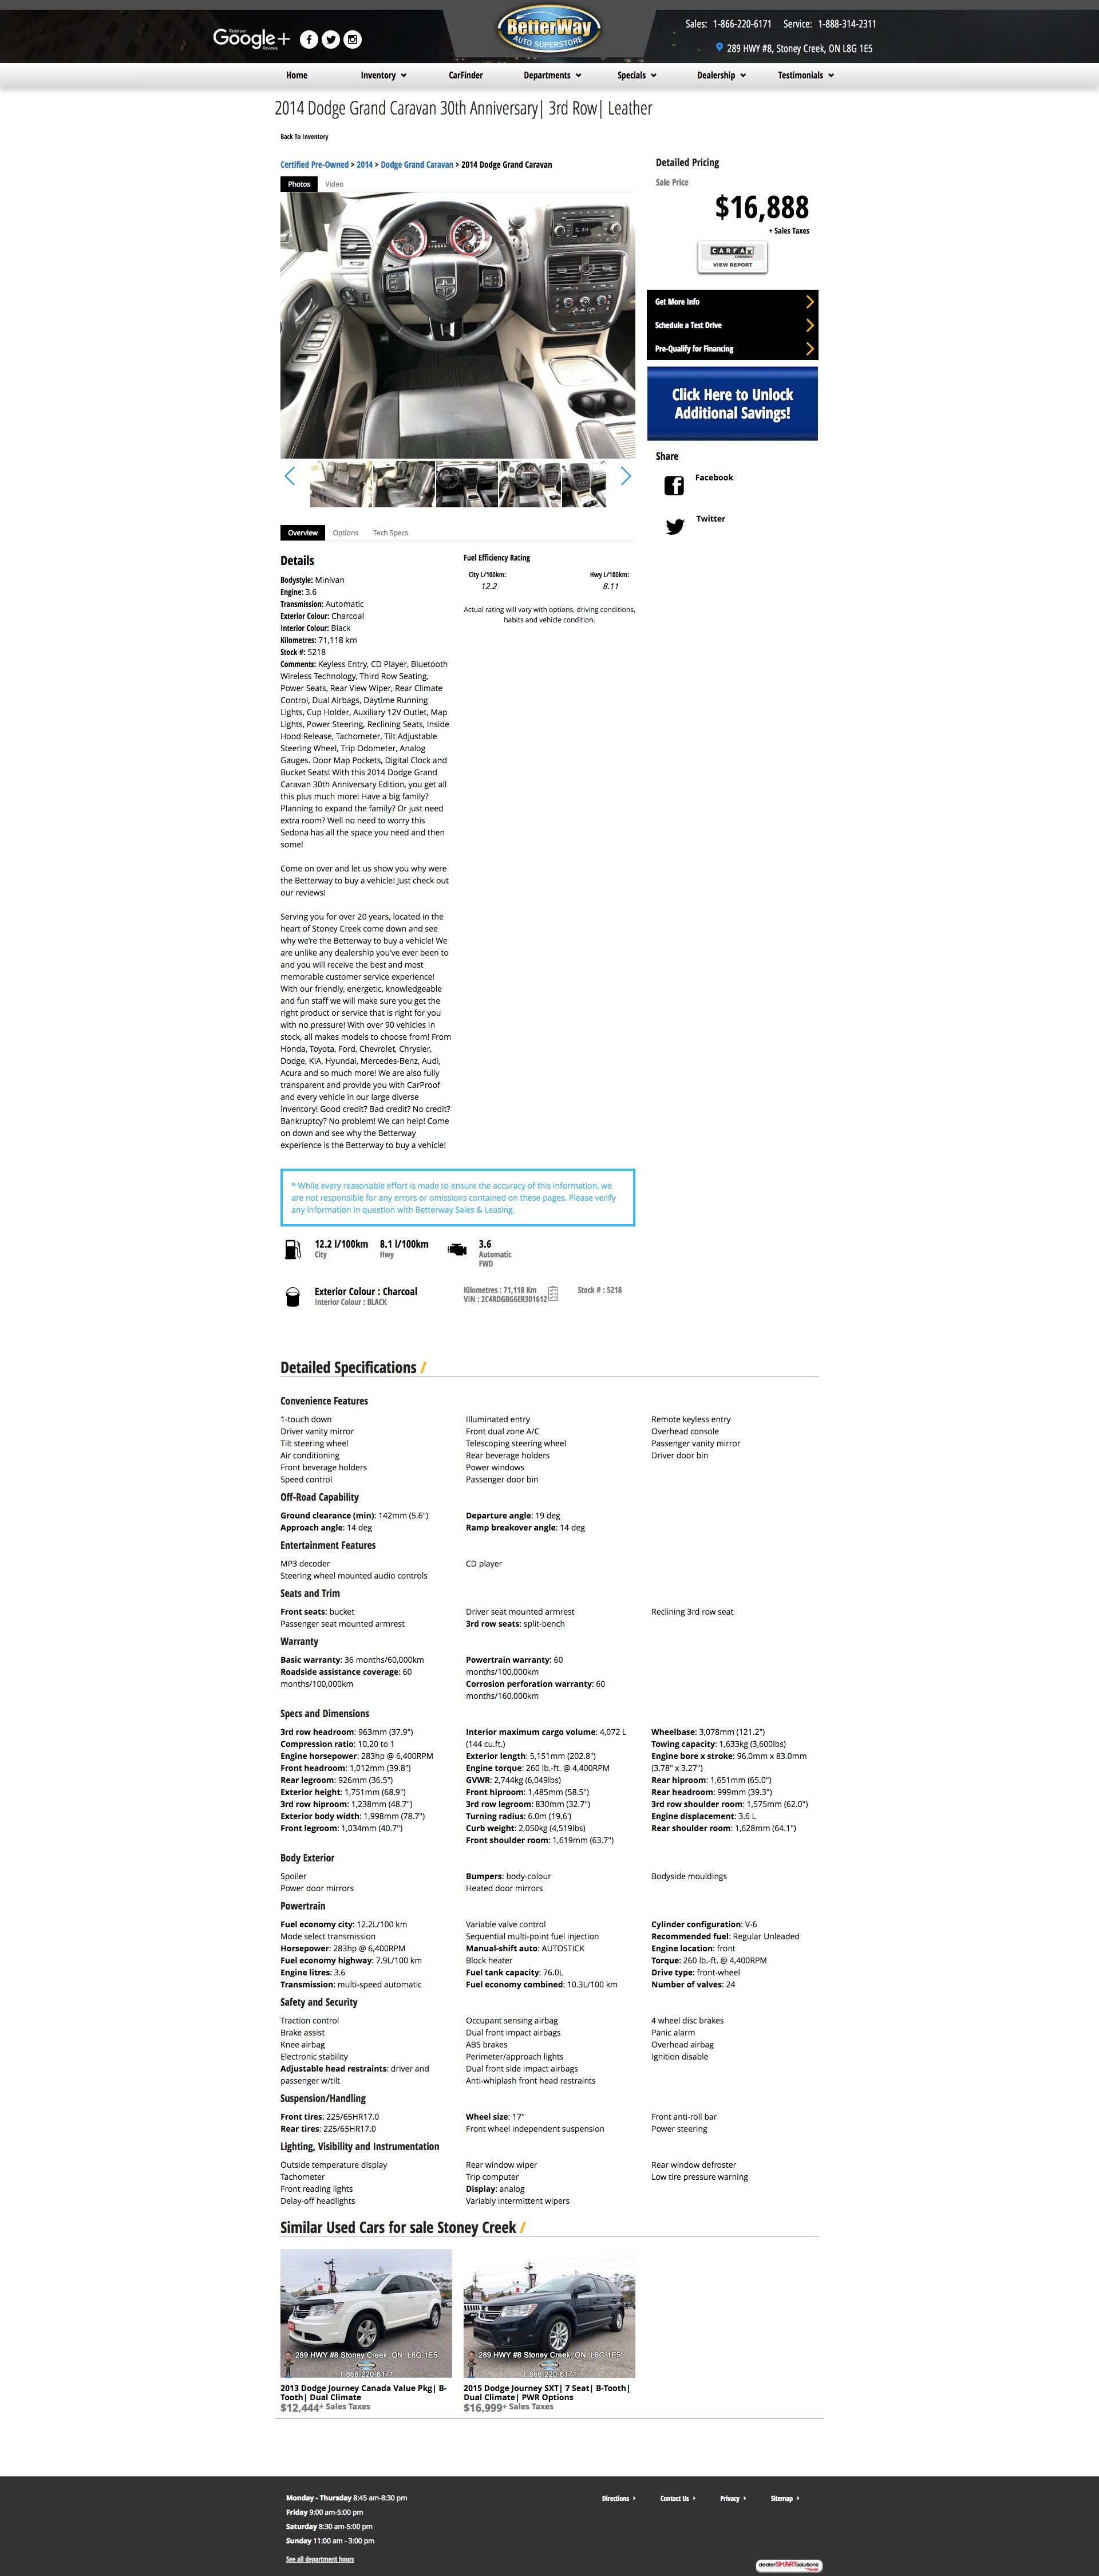car: (619, 467, 632, 486)
